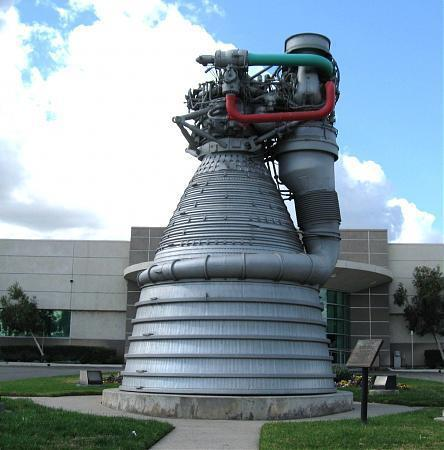thruster: (115, 162, 344, 397)
